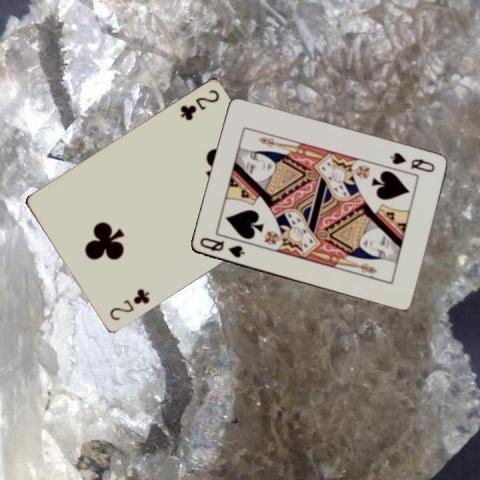2c: (106, 286, 151, 323), (177, 86, 221, 122)
Qs: (387, 149, 436, 174), (196, 235, 246, 259)
